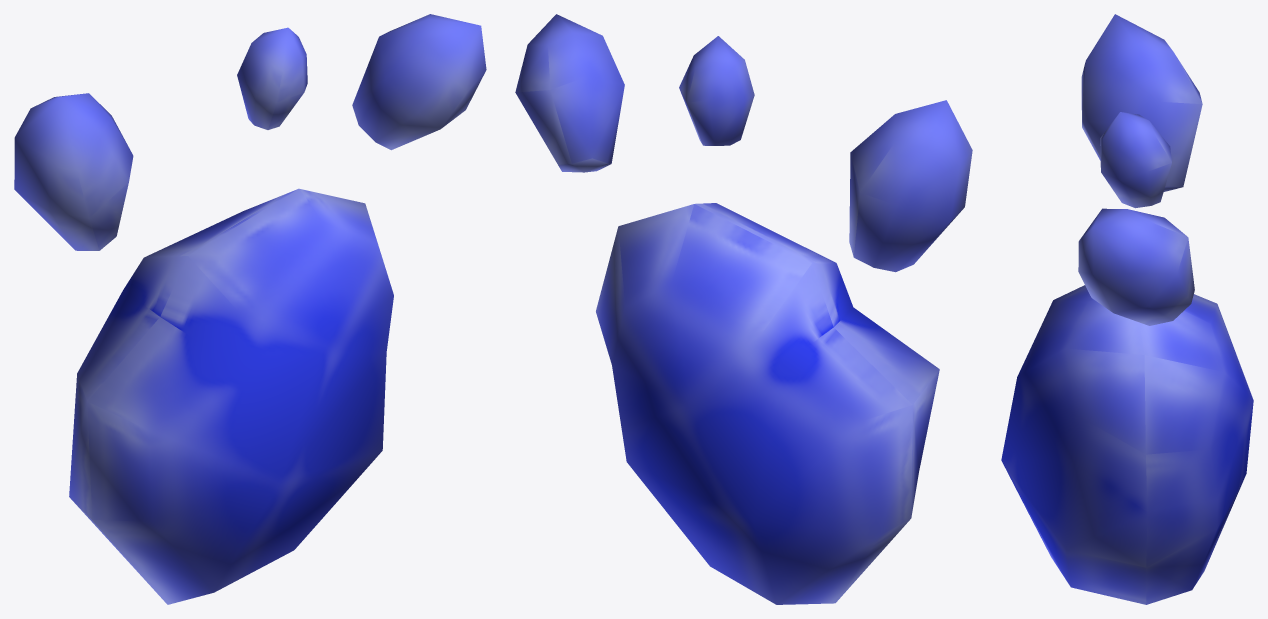
The model's file is FXSM_K_Landmark_Gem01.FBX.
3 renders of one model, left to right at view 1: azimuth 30°, elevation 25°; view 2: azimuth 150°, elevation 25°; view 3: azimuth 270°, elevation 25°, orthographic. The views are drawn at different scales.
Visible parts, largest first — view 1: Object002; view 2: Object002; view 3: Object002.
Boxes of the visible parts, x1,y1,x2,y2 form: Object002: (14, 14, 486, 604); Object002: (515, 14, 972, 604); Object002: (1001, 14, 1253, 604).
Size of the model in its own units: 48.05 by 56.02 by 24.06.
